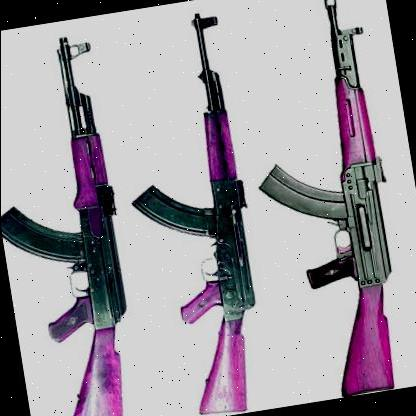rifle: (219, 0, 416, 407), (107, 5, 300, 416), (0, 30, 175, 416)
